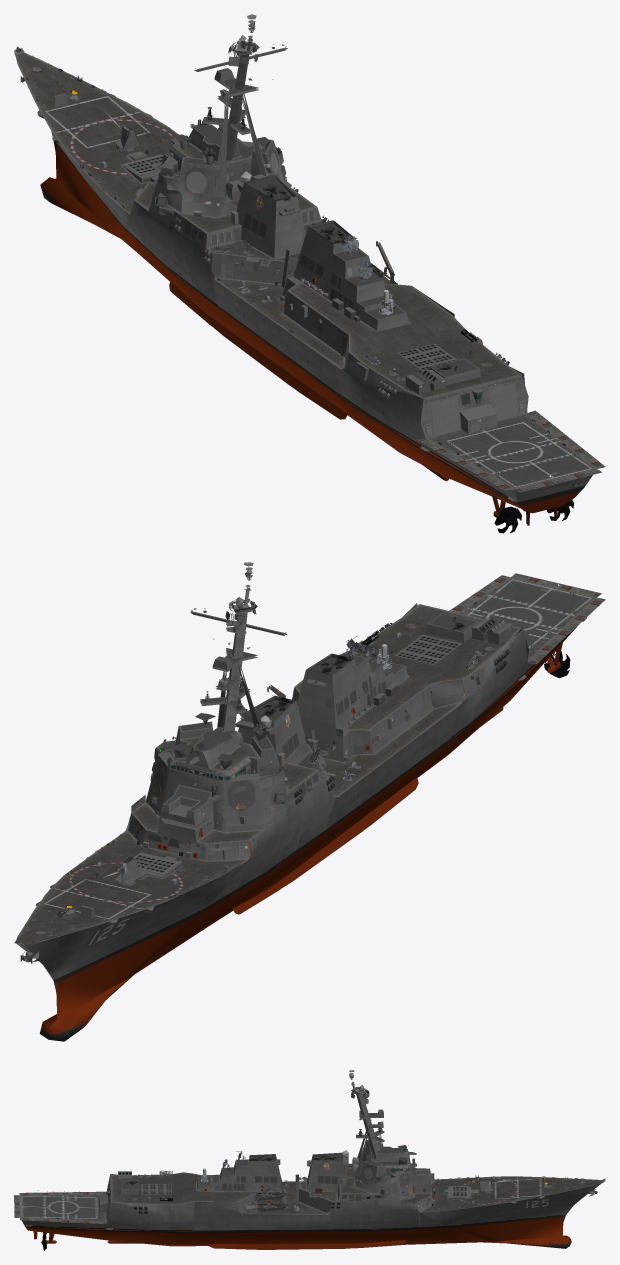
The picture shows the model from 3 angles, top to bottom: view 1: azimuth 30°, elevation 25°; view 2: azimuth 150°, elevation 25°; view 3: azimuth 270°, elevation 25°; orthographic projection. The views are drawn at different scales.
Parts seen in each view (by area): view 1: BurkeSource_Object_10.001, BurkeSource_Object_11.001, BurkeSource_Object_6.001, BurkeSource_Object_16.001; view 2: BurkeSource_Object_10.001, BurkeSource_Object_11.001, BurkeSource_Object_6.001; view 3: BurkeSource_Object_10.001, BurkeSource_Object_11.001, BurkeSource_Object_6.001.
Boxes of the visible parts, x1,y1,x2,y2 form: BurkeSource_Object_10.001: [14, 14, 596, 525]; BurkeSource_Object_11.001: [41, 73, 605, 492]; BurkeSource_Object_6.001: [113, 125, 269, 165]; BurkeSource_Object_16.001: [348, 235, 574, 533]; BurkeSource_Object_10.001: [14, 562, 596, 1041]; BurkeSource_Object_11.001: [44, 573, 605, 930]; BurkeSource_Object_6.001: [114, 713, 266, 883]; BurkeSource_Object_10.001: [19, 1070, 605, 1249]; BurkeSource_Object_11.001: [14, 1181, 579, 1224]; BurkeSource_Object_6.001: [366, 1140, 492, 1191].
Bounding box in the file's own units: 21.98 × 51.47 × 155.
Materials: 12 (6 with a texture image).
